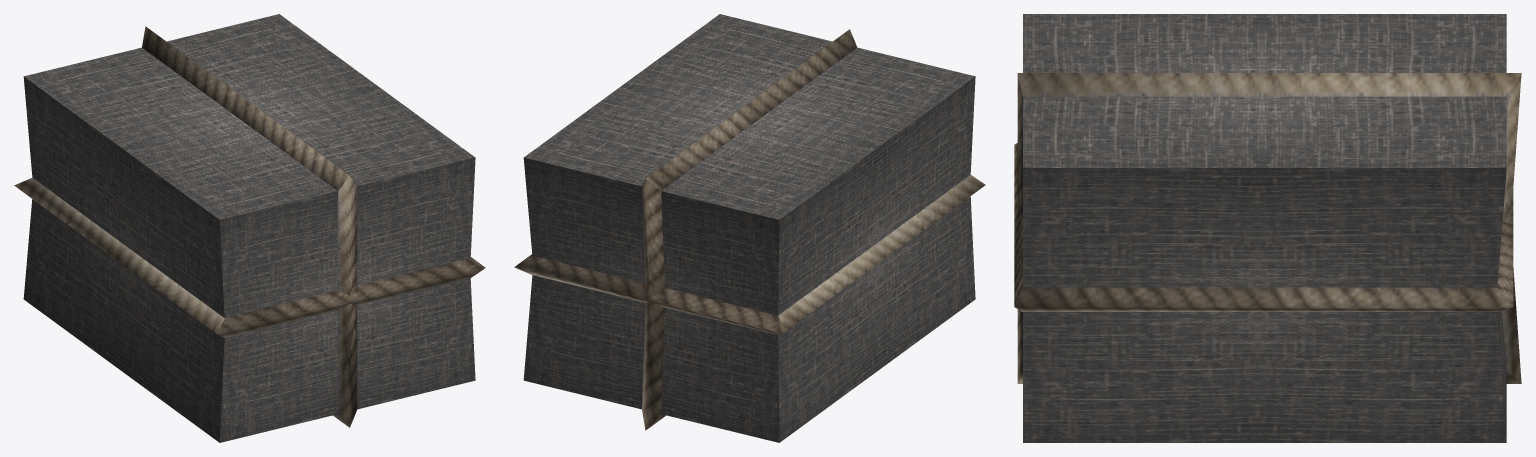
The model's file is Package_Type_02_B.fbx.
3 renders of one model, left to right at view 1: azimuth 30°, elevation 25°; view 2: azimuth 150°, elevation 25°; view 3: azimuth 270°, elevation 25°, orthographic. The views are drawn at different scales.
Parts seen in each view (by area): view 1: Package_Type_02_B; view 2: Package_Type_02_B; view 3: Package_Type_02_B.
Part boxes in pixels (bbox=[...]): Package_Type_02_B: bbox=[14, 14, 485, 442]; Package_Type_02_B: bbox=[514, 14, 985, 442]; Package_Type_02_B: bbox=[1014, 14, 1521, 442].
Size of the model in its own units: 0.6549 by 0.5856 by 0.8653.
